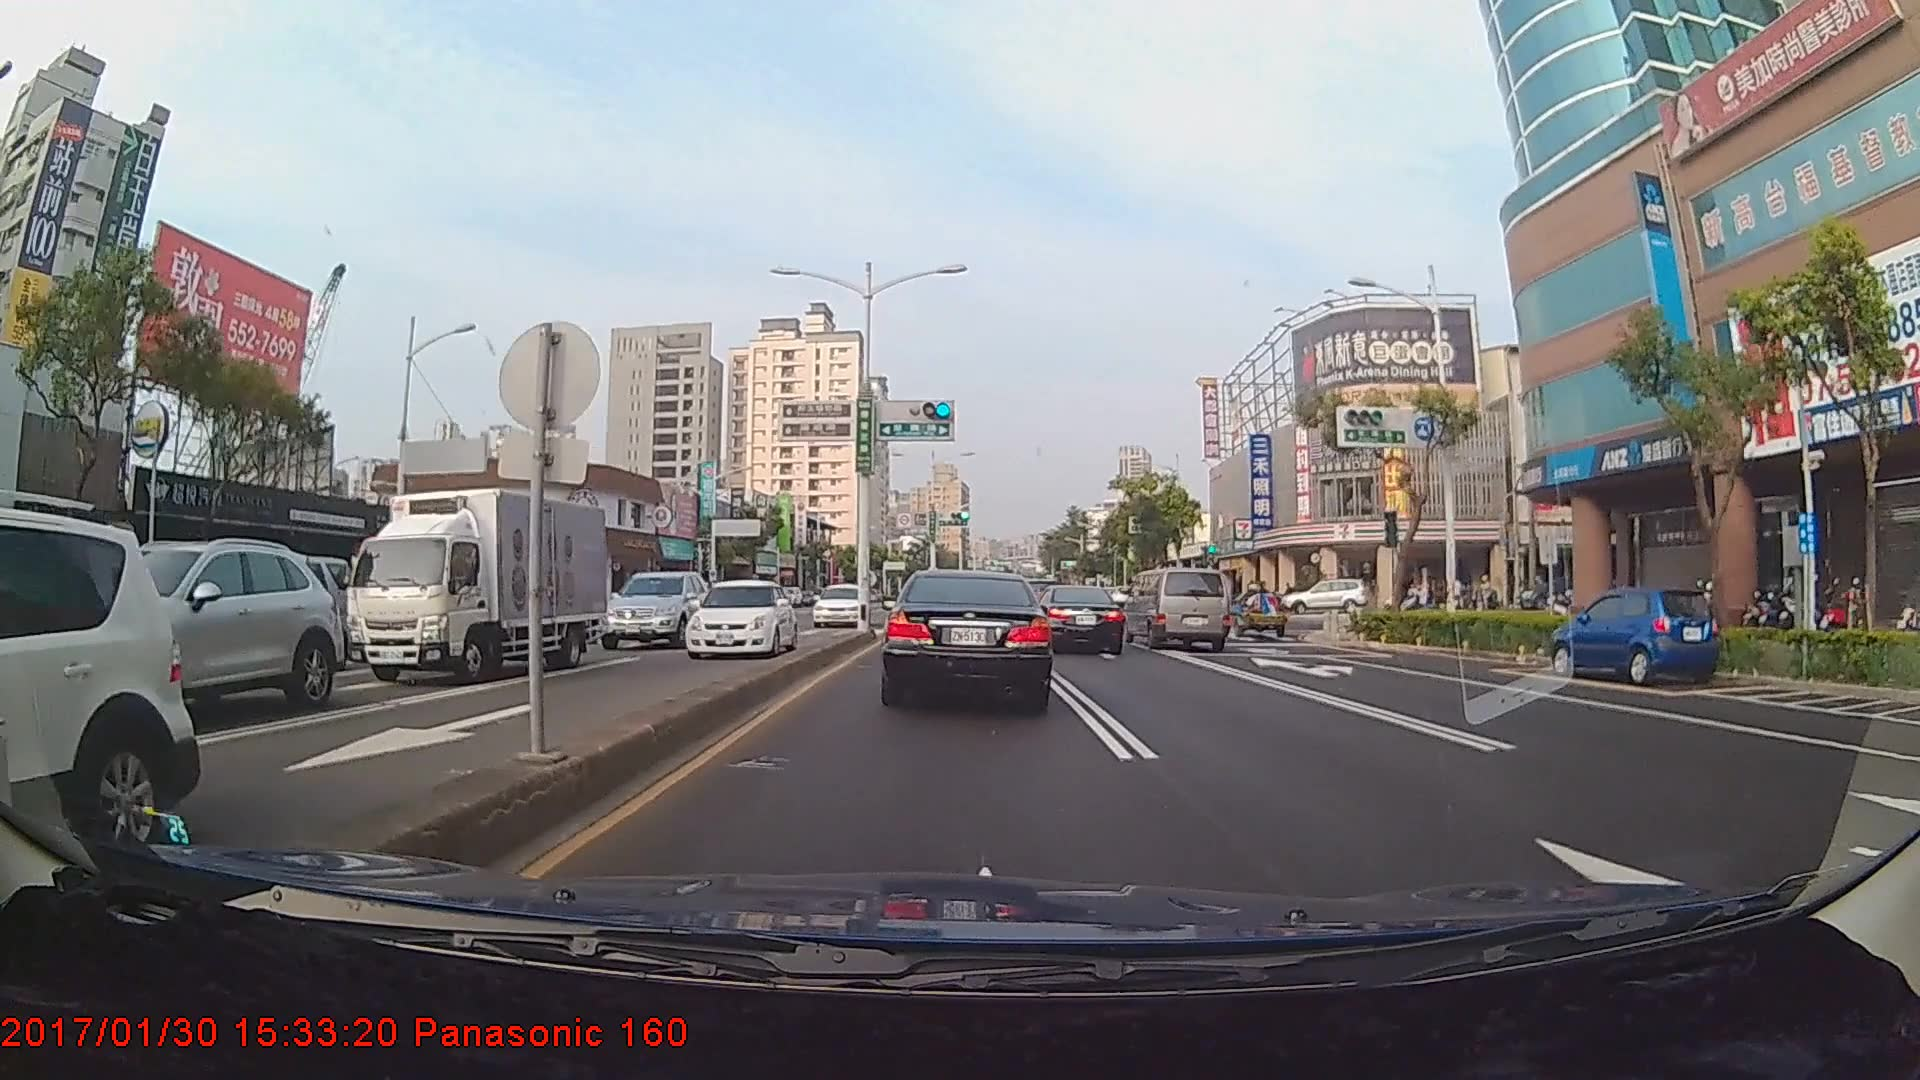vehicle: (0, 509, 189, 860), (343, 487, 611, 684), (55, 538, 342, 721), (882, 564, 1055, 709), (210, 553, 357, 673), (1555, 584, 1714, 686), (593, 566, 712, 650), (1121, 567, 1232, 651), (682, 579, 796, 659), (1036, 584, 1126, 654), (1280, 578, 1371, 616), (808, 583, 866, 630)
